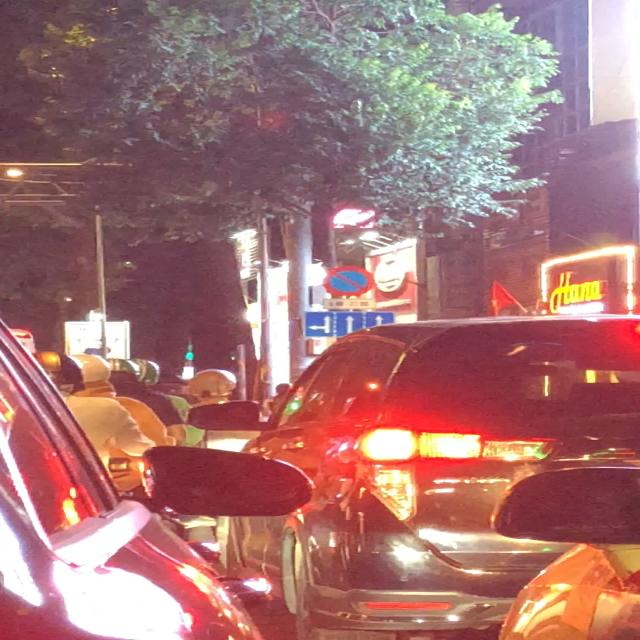Bien bao cam do xe: (321, 264, 382, 299)
